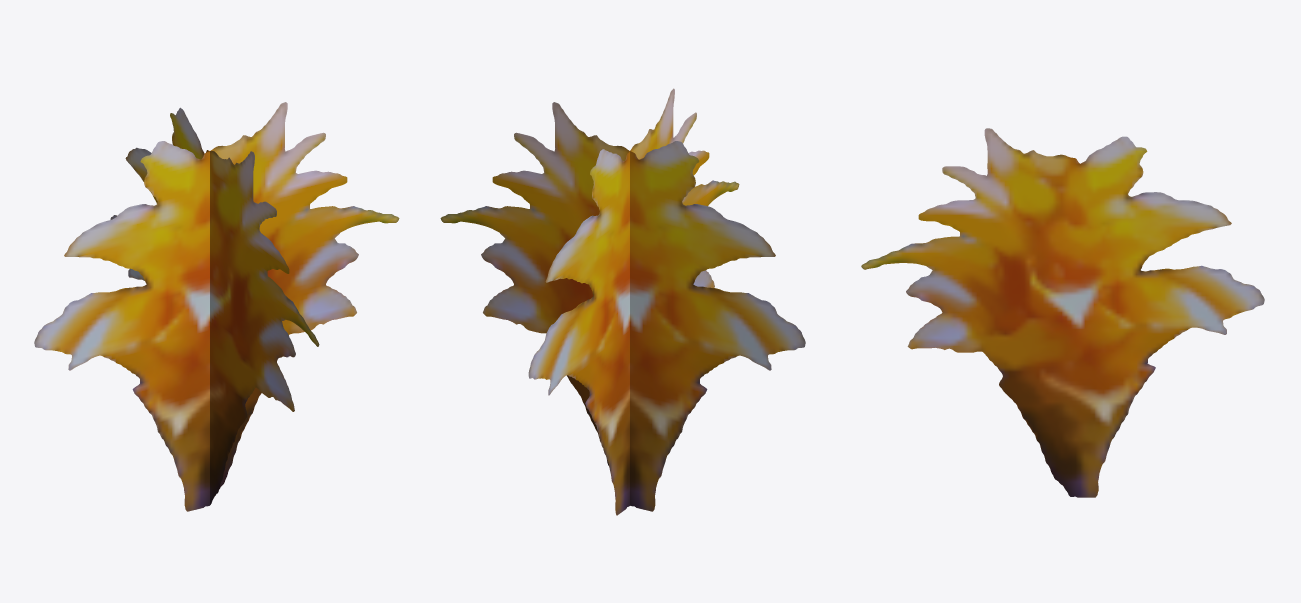
Rendered from flower_4.FBX.
3 views of the same model, side by side, from view 1: azimuth 30°, elevation 25°; view 2: azimuth 150°, elevation 25°; view 3: azimuth 270°, elevation 25° (orthographic). The views are drawn at different scales.
Visible parts, largest first — view 1: Plane012; view 2: Plane012; view 3: Plane012.
Boxes of the visible parts, box(x1,y1,x2,y2) form: Plane012: box(34, 102, 399, 511); Plane012: box(440, 88, 805, 515); Plane012: box(861, 128, 1264, 497).
Size of the model in its own units: 128 by 128 by 128.
